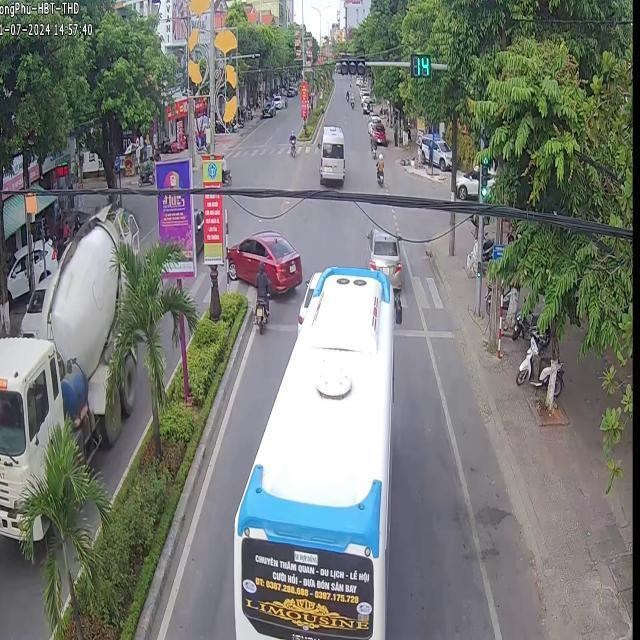car: (232, 265, 392, 636), (0, 202, 137, 536), (227, 229, 300, 290), (364, 222, 400, 289), (317, 125, 343, 182)
green_light: (410, 50, 429, 73)
motobike: (253, 260, 269, 331)
stop_line: (393, 327, 424, 336), (266, 322, 296, 329), (426, 329, 452, 336)
